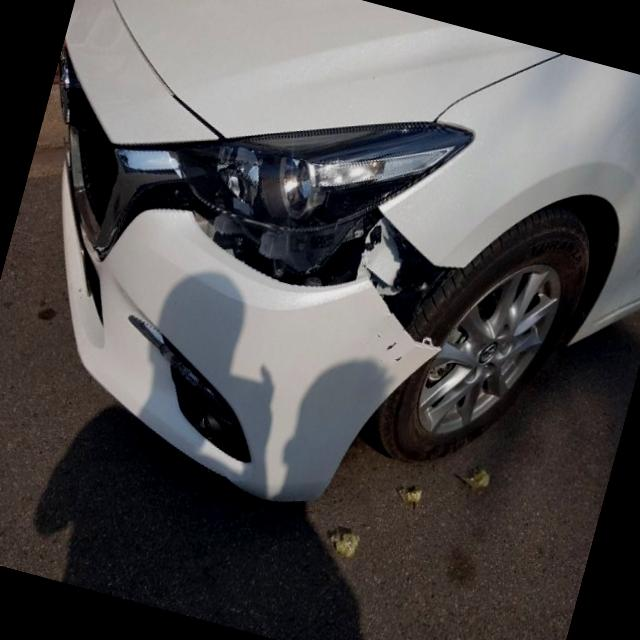Dechirure: (113, 146, 532, 418), (135, 342, 281, 487)
Phare abime: (162, 96, 456, 275)
Rayure: (373, 320, 414, 385)
